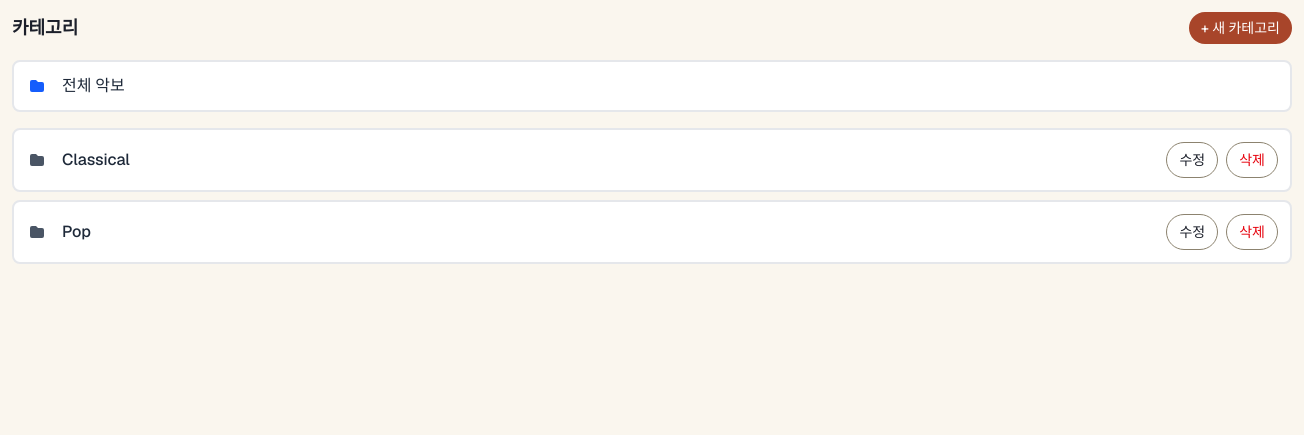
Test: CategoryManager › shows create form when create button is clicked
Step 1. Click the button "+ 새 카테고리" → (1240, 28), box [1189,12,1292,44]
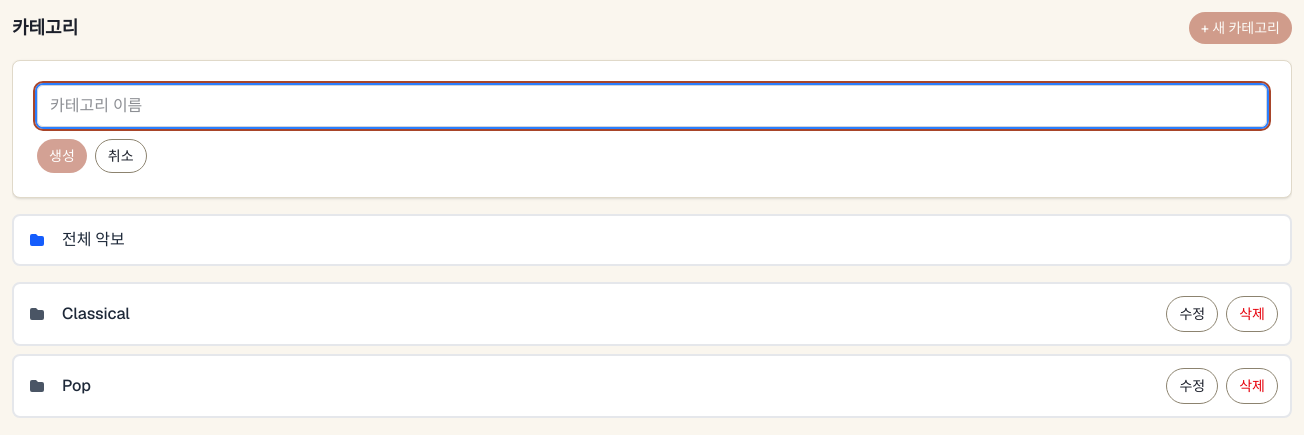
Expected: the field with placeholder "카테고리 이름" is shown, [37,85,1267,127]
Expected: the button "생성" is shown, [37,139,87,173]
Expected: the button "취소" is shown, [95,139,147,173]
